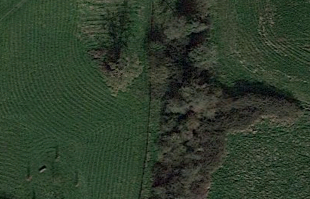tree: (95, 42, 143, 96), (183, 37, 220, 72)
